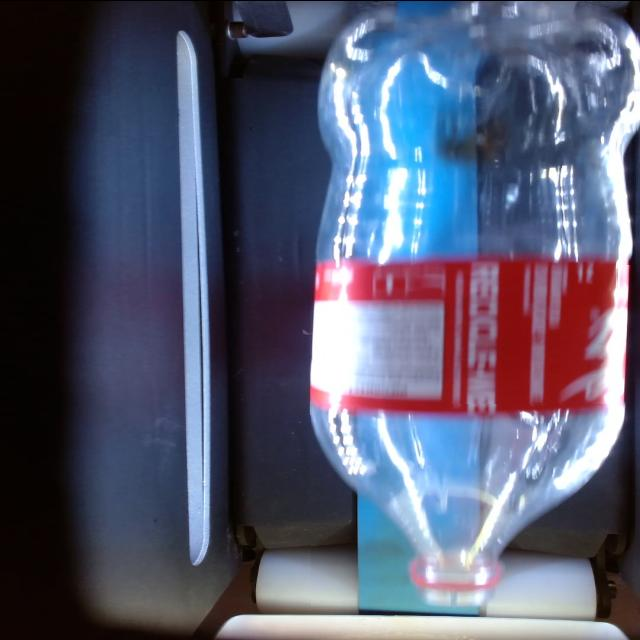bottom: (318, 0, 637, 264)
label: (311, 258, 617, 413)
neck: (311, 403, 624, 604)
